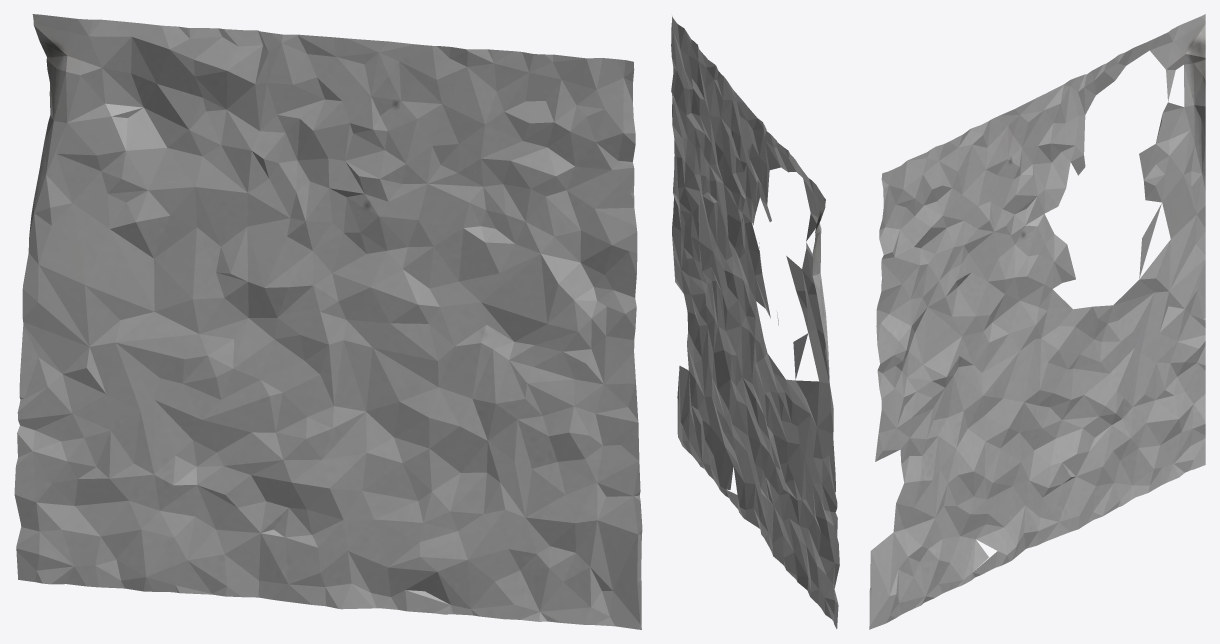
The picture shows the model from 3 angles, left to right: view 1: azimuth 30°, elevation 25°; view 2: azimuth 150°, elevation 25°; view 3: azimuth 270°, elevation 25°; orthographic projection. The views are drawn at different scales.
Size of the model in its own units: 0.6547 by 0.8373 by 0.5611.
3 materials, 3 textured.
